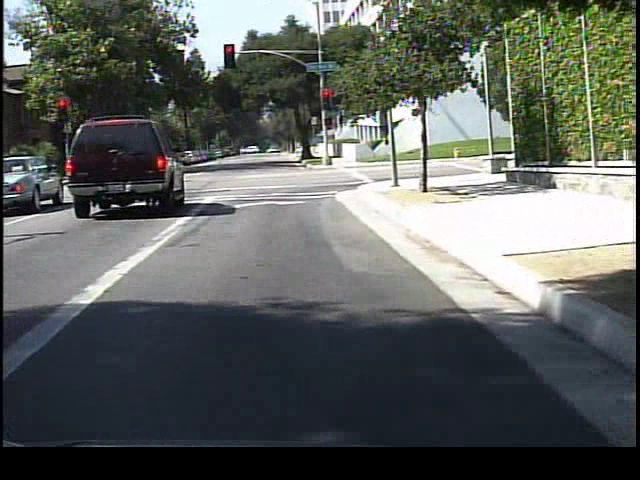person: (381, 131, 400, 167)
